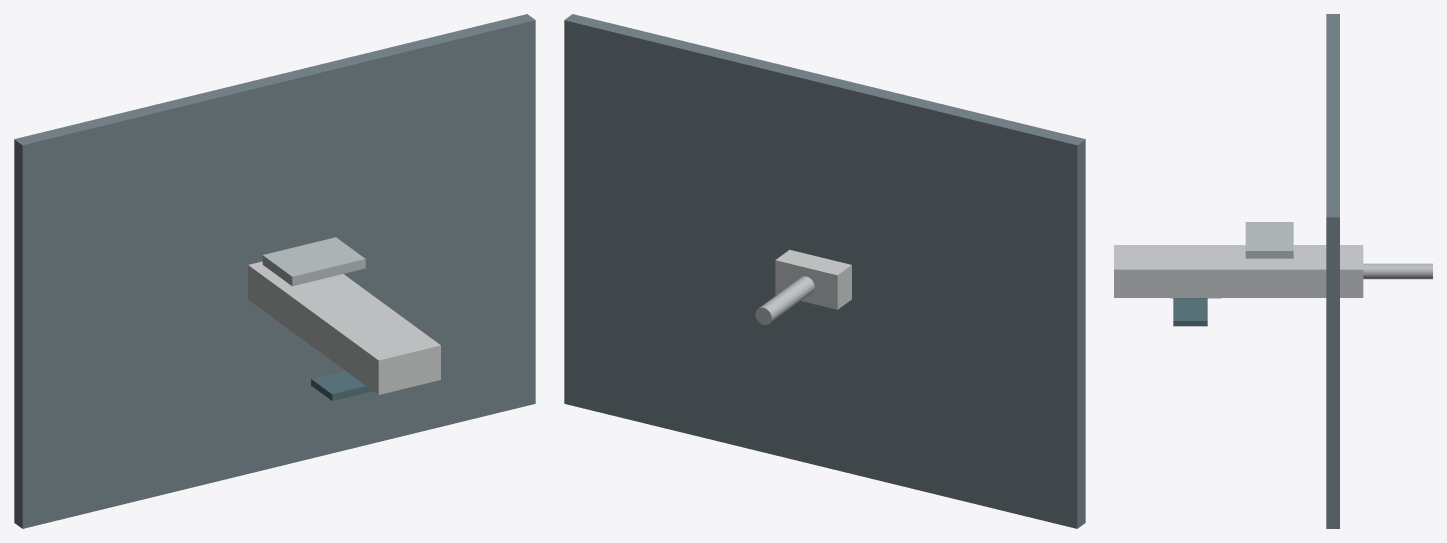
Rendered from thermometer-high.glb.
3 renders of one model, left to right at view 1: azimuth 30°, elevation 25°; view 2: azimuth 150°, elevation 25°; view 3: azimuth 270°, elevation 25°, orthographic. The views are drawn at different scales.
Parts seen in each view (by area): view 1: presentation_base_detail, thermometer_body, grip_detail, display_bezel_detail; view 2: presentation_base_detail, thermometer_body, sensor_tip; view 3: thermometer_body, presentation_base_detail, grip_detail, sensor_tip, display_bezel_detail.
Part boxes in pixels (<box>): presentation_base_detail: <box>14,14,535,528</box>; thermometer_body: <box>248,261,440,394</box>; grip_detail: <box>262,237,365,286</box>; display_bezel_detail: <box>311,370,372,400</box>; presentation_base_detail: <box>564,14,1085,528</box>; thermometer_body: <box>775,249,851,309</box>; sensor_tip: <box>755,276,814,325</box>; thermometer_body: <box>1114,245,1363,297</box>; presentation_base_detail: <box>1326,14,1339,528</box>; grip_detail: <box>1245,222,1293,258</box>; sensor_tip: <box>1363,263,1432,279</box>; display_bezel_detail: <box>1173,298,1207,326</box>.
Bounding box in the file's own units: 2.8 × 2 × 1.86.
